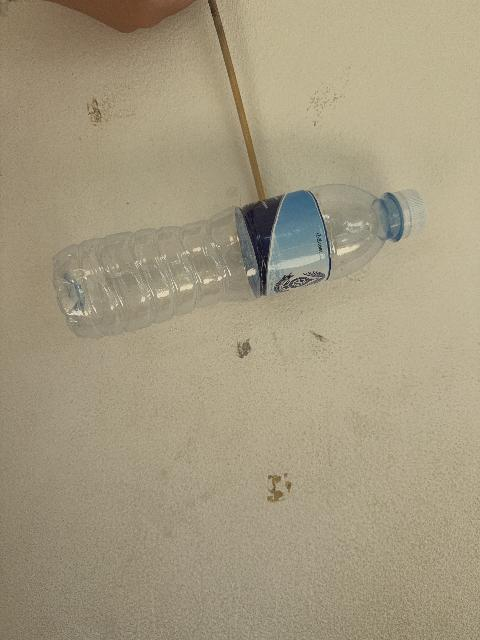bottle: (54, 185, 426, 337)
